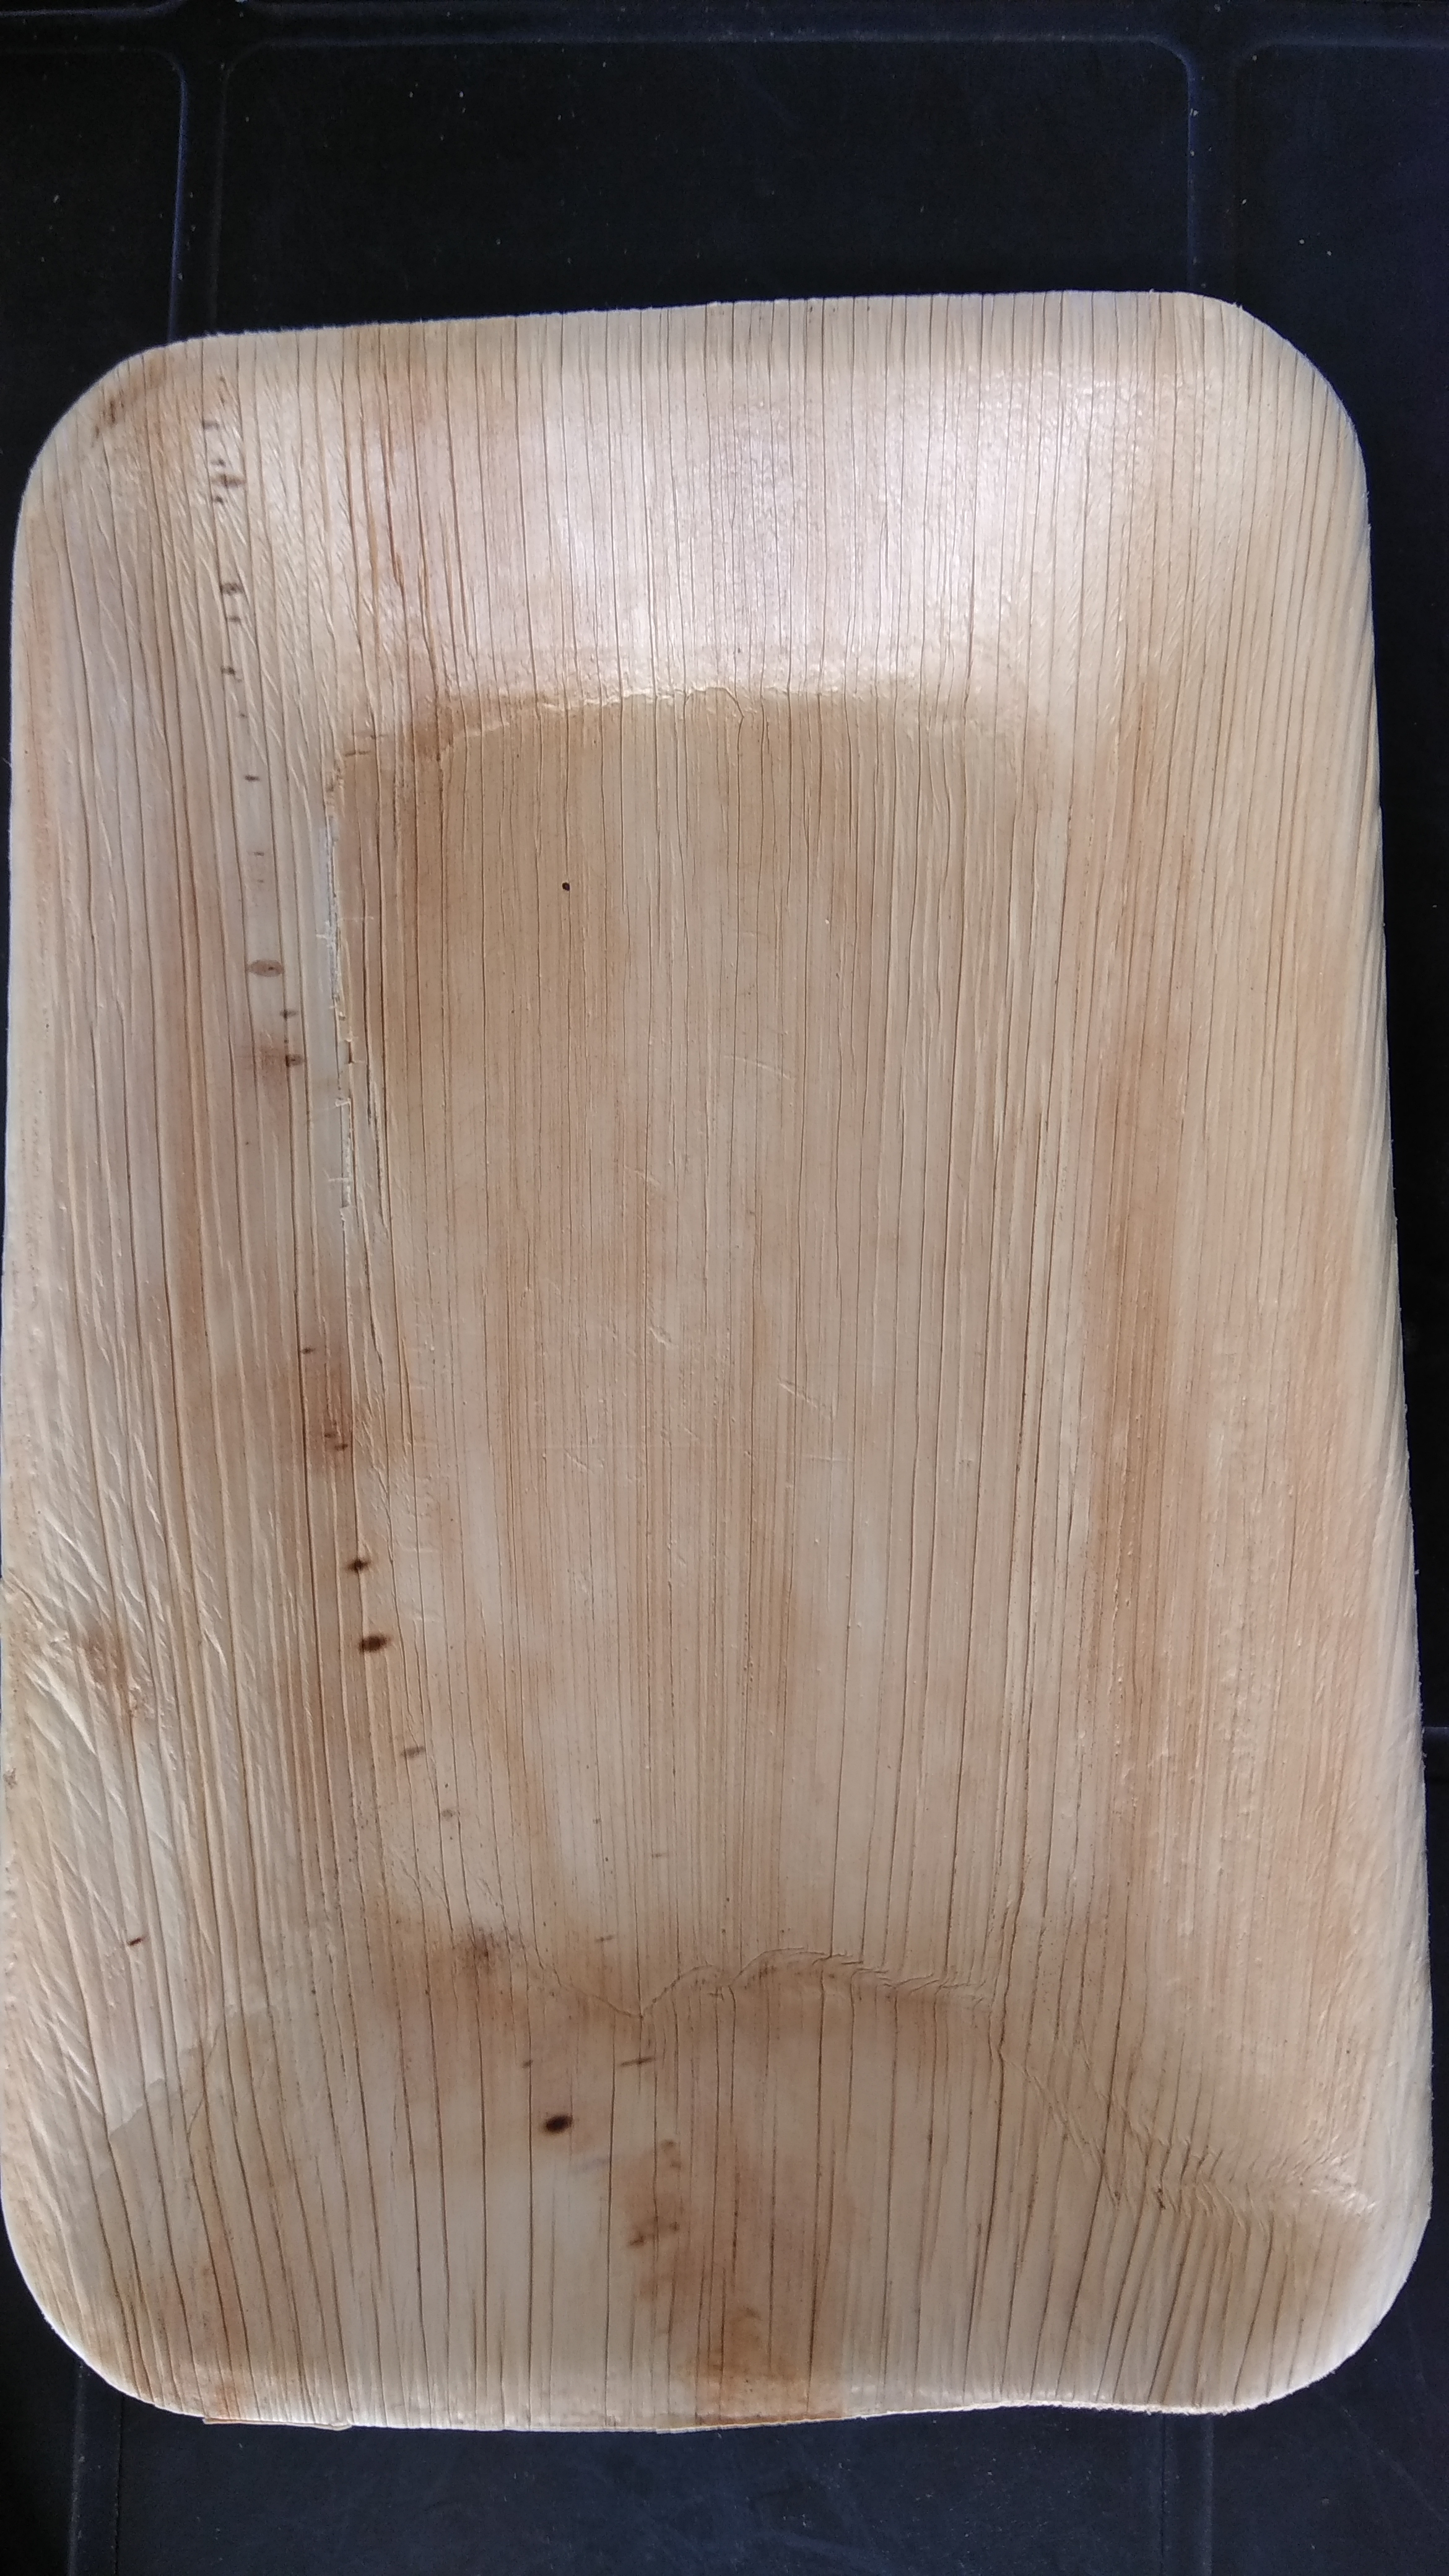areca plate: (12, 281, 1449, 2401)
